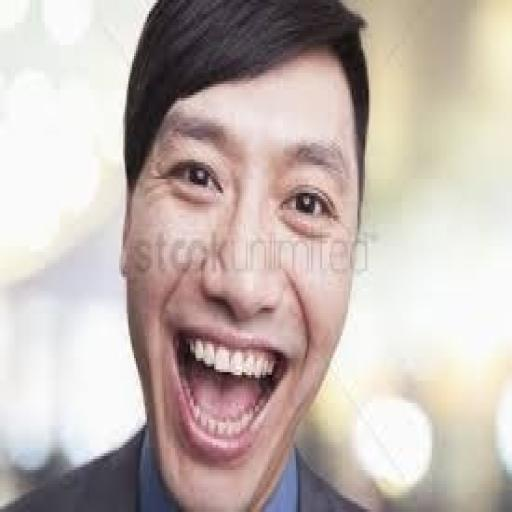laughing: (112, 0, 374, 476)
